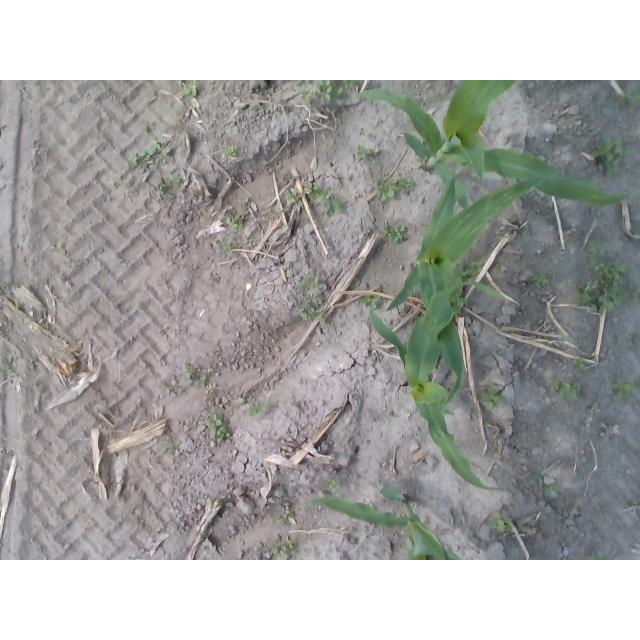Maize: (385, 165, 554, 412), (335, 80, 629, 214), (366, 280, 510, 497), (296, 485, 465, 560)
Weeds: (573, 260, 627, 312), (591, 136, 633, 176), (129, 138, 172, 170), (205, 414, 231, 443), (299, 293, 325, 322), (582, 241, 606, 272), (479, 382, 503, 410), (155, 174, 185, 195), (323, 191, 345, 217), (303, 180, 326, 204), (610, 378, 635, 400), (271, 540, 298, 560), (177, 80, 203, 100), (490, 511, 512, 534), (619, 86, 640, 110), (384, 222, 405, 246), (467, 256, 486, 282), (557, 382, 582, 401), (378, 178, 397, 202), (397, 172, 415, 196), (316, 80, 333, 105), (333, 80, 359, 96), (294, 276, 319, 292), (451, 292, 469, 313), (450, 262, 466, 282), (285, 189, 302, 207), (225, 214, 244, 230), (361, 294, 380, 310), (249, 403, 268, 418), (324, 478, 340, 495), (357, 144, 374, 160), (163, 379, 178, 397), (625, 282, 640, 300), (531, 271, 549, 286), (543, 484, 562, 497), (303, 87, 318, 102), (571, 357, 585, 373), (223, 145, 238, 159), (167, 439, 182, 453), (219, 237, 233, 252), (283, 506, 294, 524), (183, 364, 195, 379), (194, 373, 206, 387), (588, 552, 604, 561), (1, 358, 12, 370), (549, 379, 560, 390), (531, 472, 542, 482), (52, 242, 63, 251), (419, 221, 429, 230), (359, 127, 369, 136), (372, 480, 380, 489), (372, 285, 380, 292), (240, 198, 248, 204), (296, 80, 303, 86), (306, 81, 310, 84)
